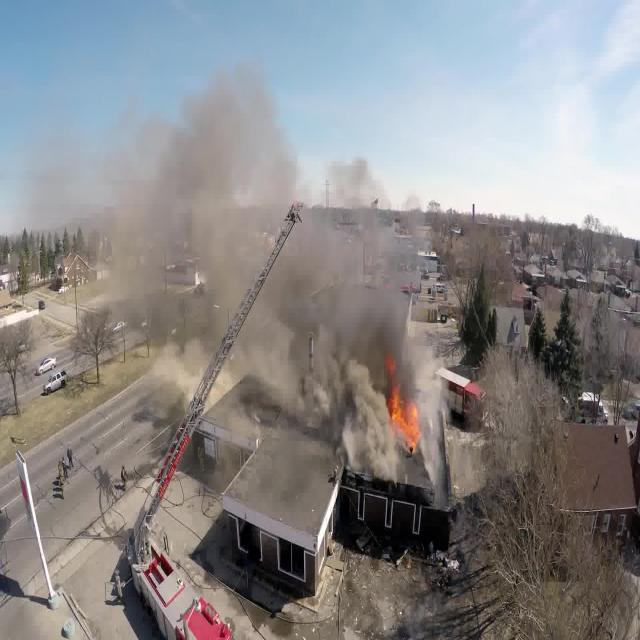Fire: (361, 354, 430, 451)
Smoke: (112, 104, 448, 510)
